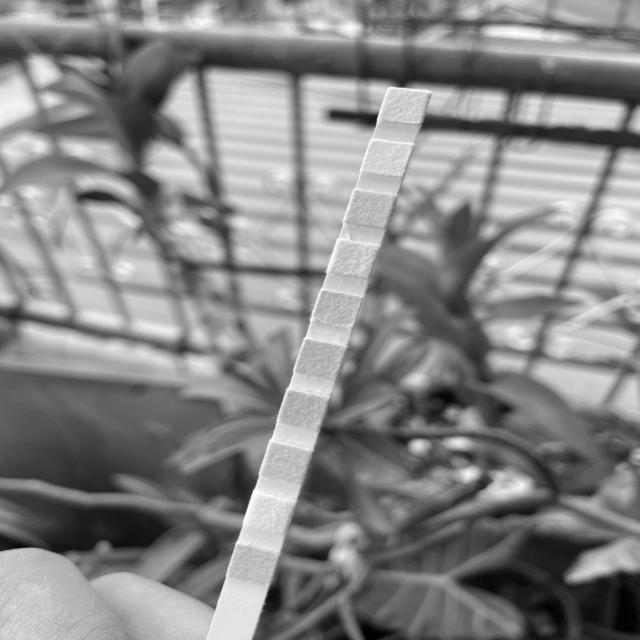Bilirubin: (250, 501, 287, 528)
Blood: (302, 347, 337, 373)
Glucose: (235, 553, 271, 577)
Ketone: (268, 450, 304, 478)
Leukocytes: (386, 94, 422, 120)
Nitrite: (370, 144, 404, 172)
Protein: (336, 246, 370, 273)
SpGravity: (285, 398, 322, 424)
Urobilinogen: (352, 197, 387, 223)
background: (0, 0, 640, 640)
pH: (318, 297, 354, 323)
strip: (207, 88, 431, 640)
